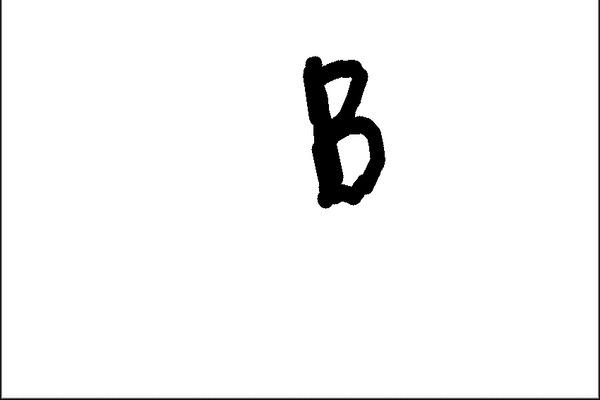B: (291, 45, 390, 218)
